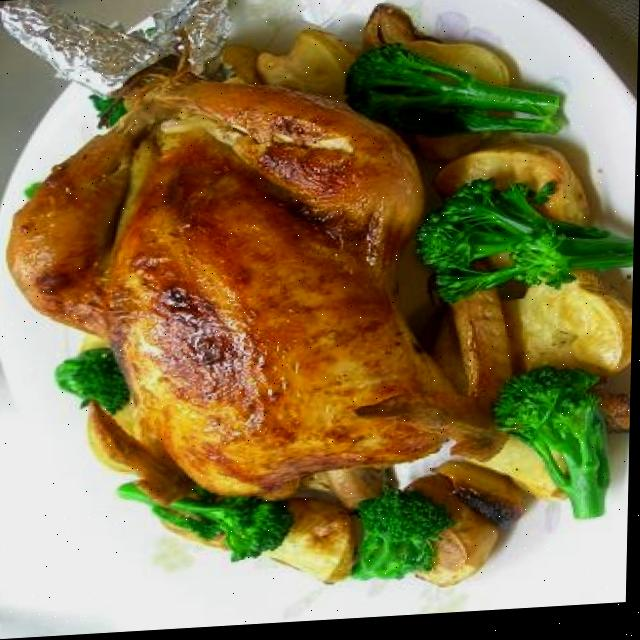鸡肉料理 含炸鸡: (0, 0, 529, 555)
